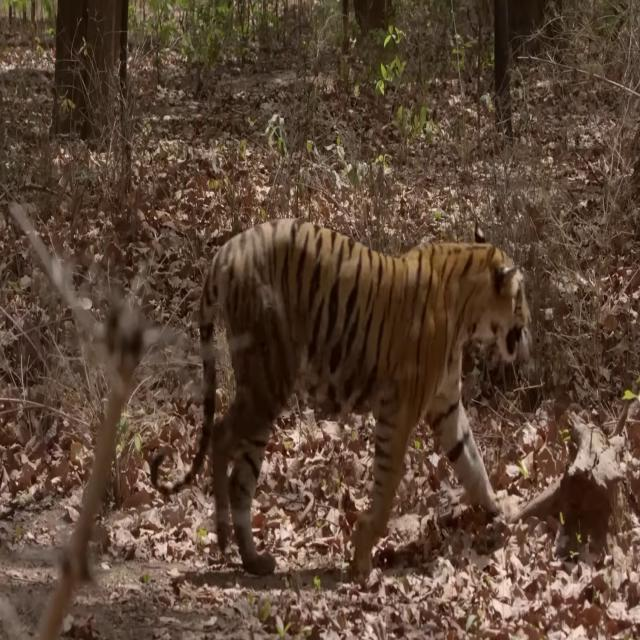tiger: (149, 218, 533, 580)
